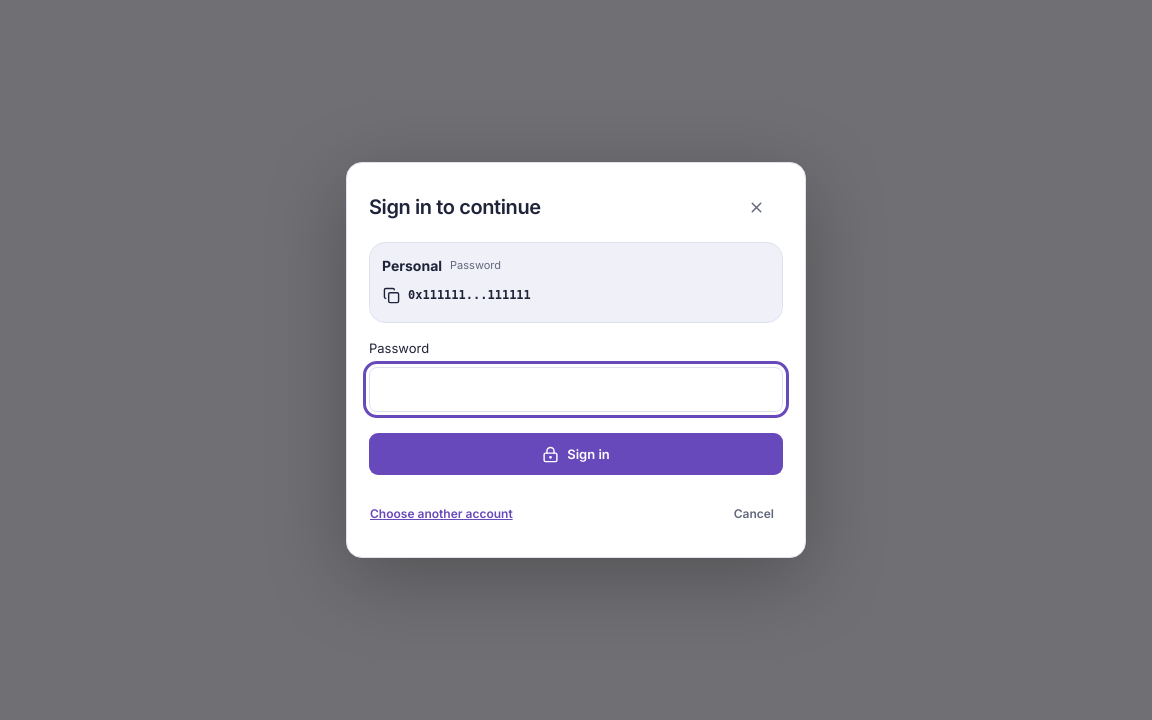
switches to another named account and clears the previous password
This screenshot has width=1152, height=720.
In the password field labelled "Password": [576, 389] box [369,367,783,412], type "do not carry this over"
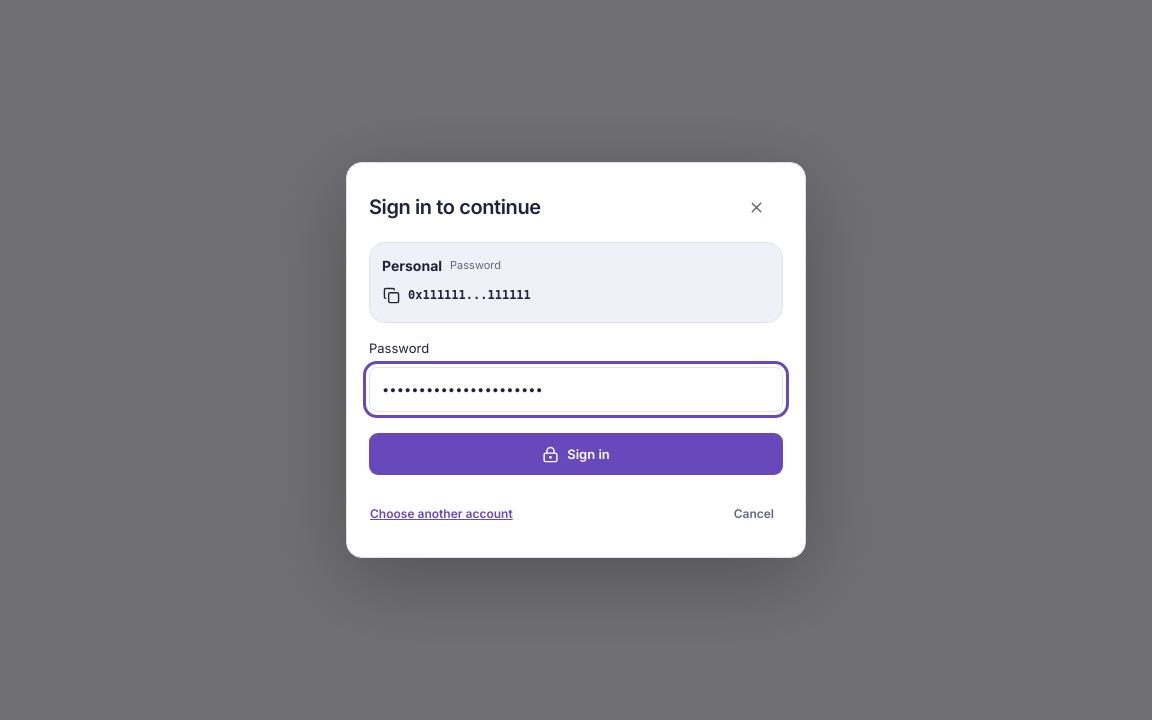
Click the button "Choose another account": [441, 515] box [369,499,514,531]
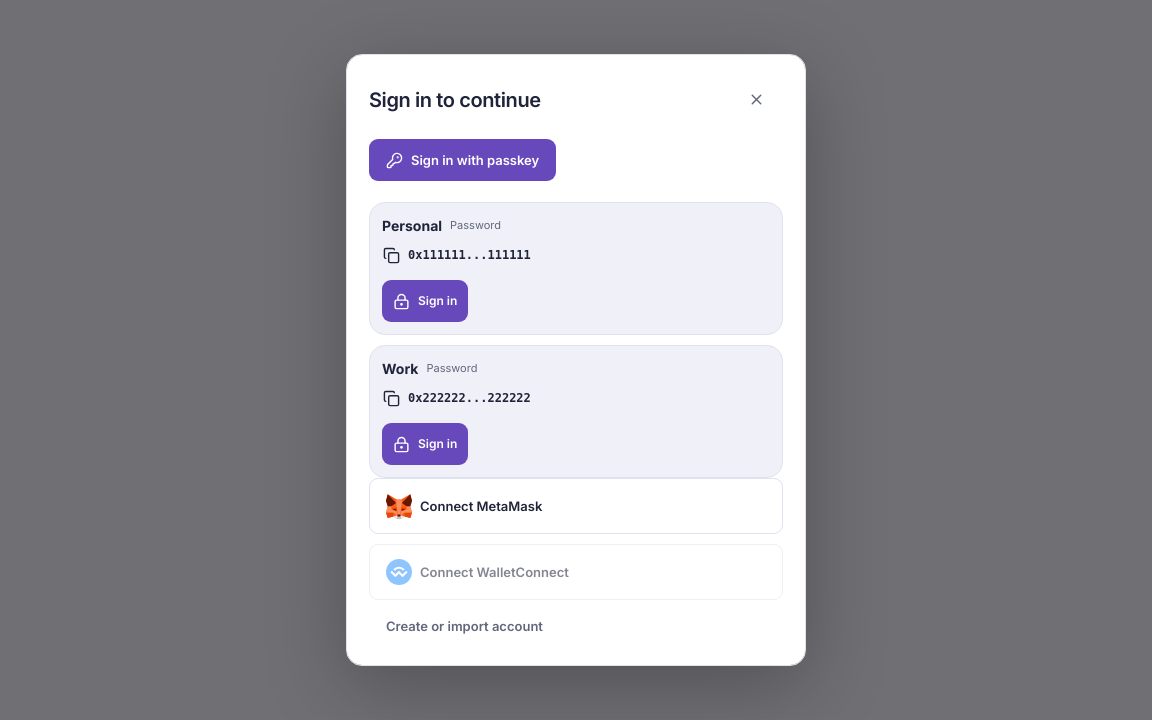
Click the button "Sign in" below "Work": [425, 444] box [382,423,468,465]
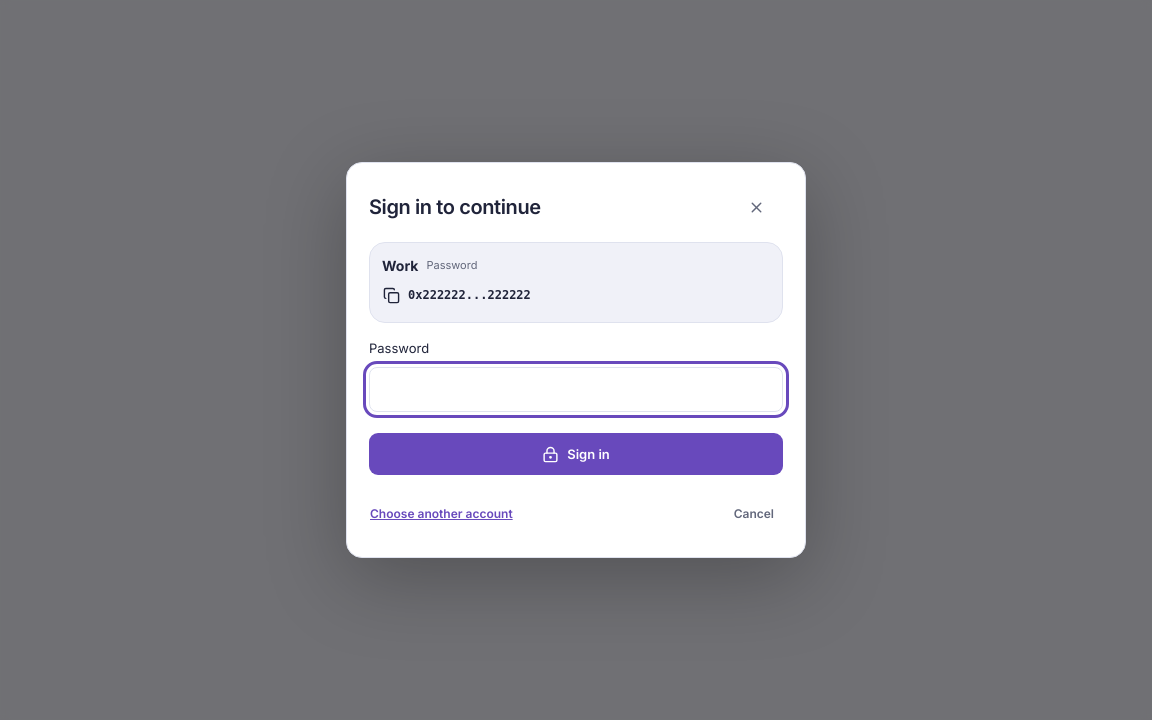
Expected: the text "Work" is shown, [382,255,418,276]
Expected: the password field labelled "Password" is empty, [369,367,783,412]
